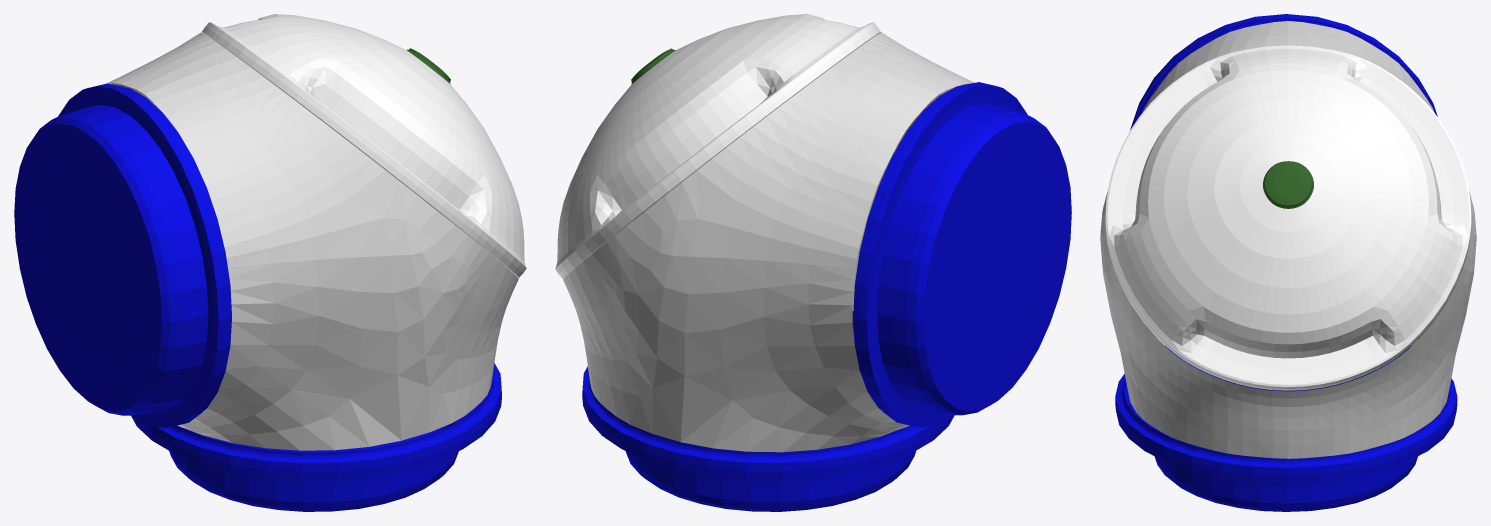
File: s_axis.dae
3 renders of one model, left to right at view 1: azimuth 30°, elevation 25°; view 2: azimuth 150°, elevation 25°; view 3: azimuth 270°, elevation 25°, orthographic. The views are drawn at different scales.
Visible parts, largest first — view 1: Circle.012, Circle.009, Circle.008, Circle.010; view 2: Circle.012, Circle.009, Circle.008, Circle.010; view 3: Circle.008, Circle.012, Circle.010, Circle.009.
Boxes of the visible parts, box(x1,y1,x2,y2) form: Circle.012: box(106, 32, 518, 450); Circle.009: box(14, 83, 231, 428); Circle.008: box(202, 14, 526, 277); Circle.010: box(131, 363, 501, 511); Circle.012: box(563, 32, 974, 452); Circle.009: box(853, 82, 1071, 427); Circle.008: box(555, 14, 880, 278); Circle.010: box(582, 311, 954, 511); Circle.008: box(1105, 45, 1471, 390); Circle.012: box(1100, 21, 1476, 458); Circle.010: box(1115, 345, 1457, 511); Circle.009: box(1130, 14, 1437, 129).
Size of the model in its own units: 0.2391 by 0.212 by 0.2398.
